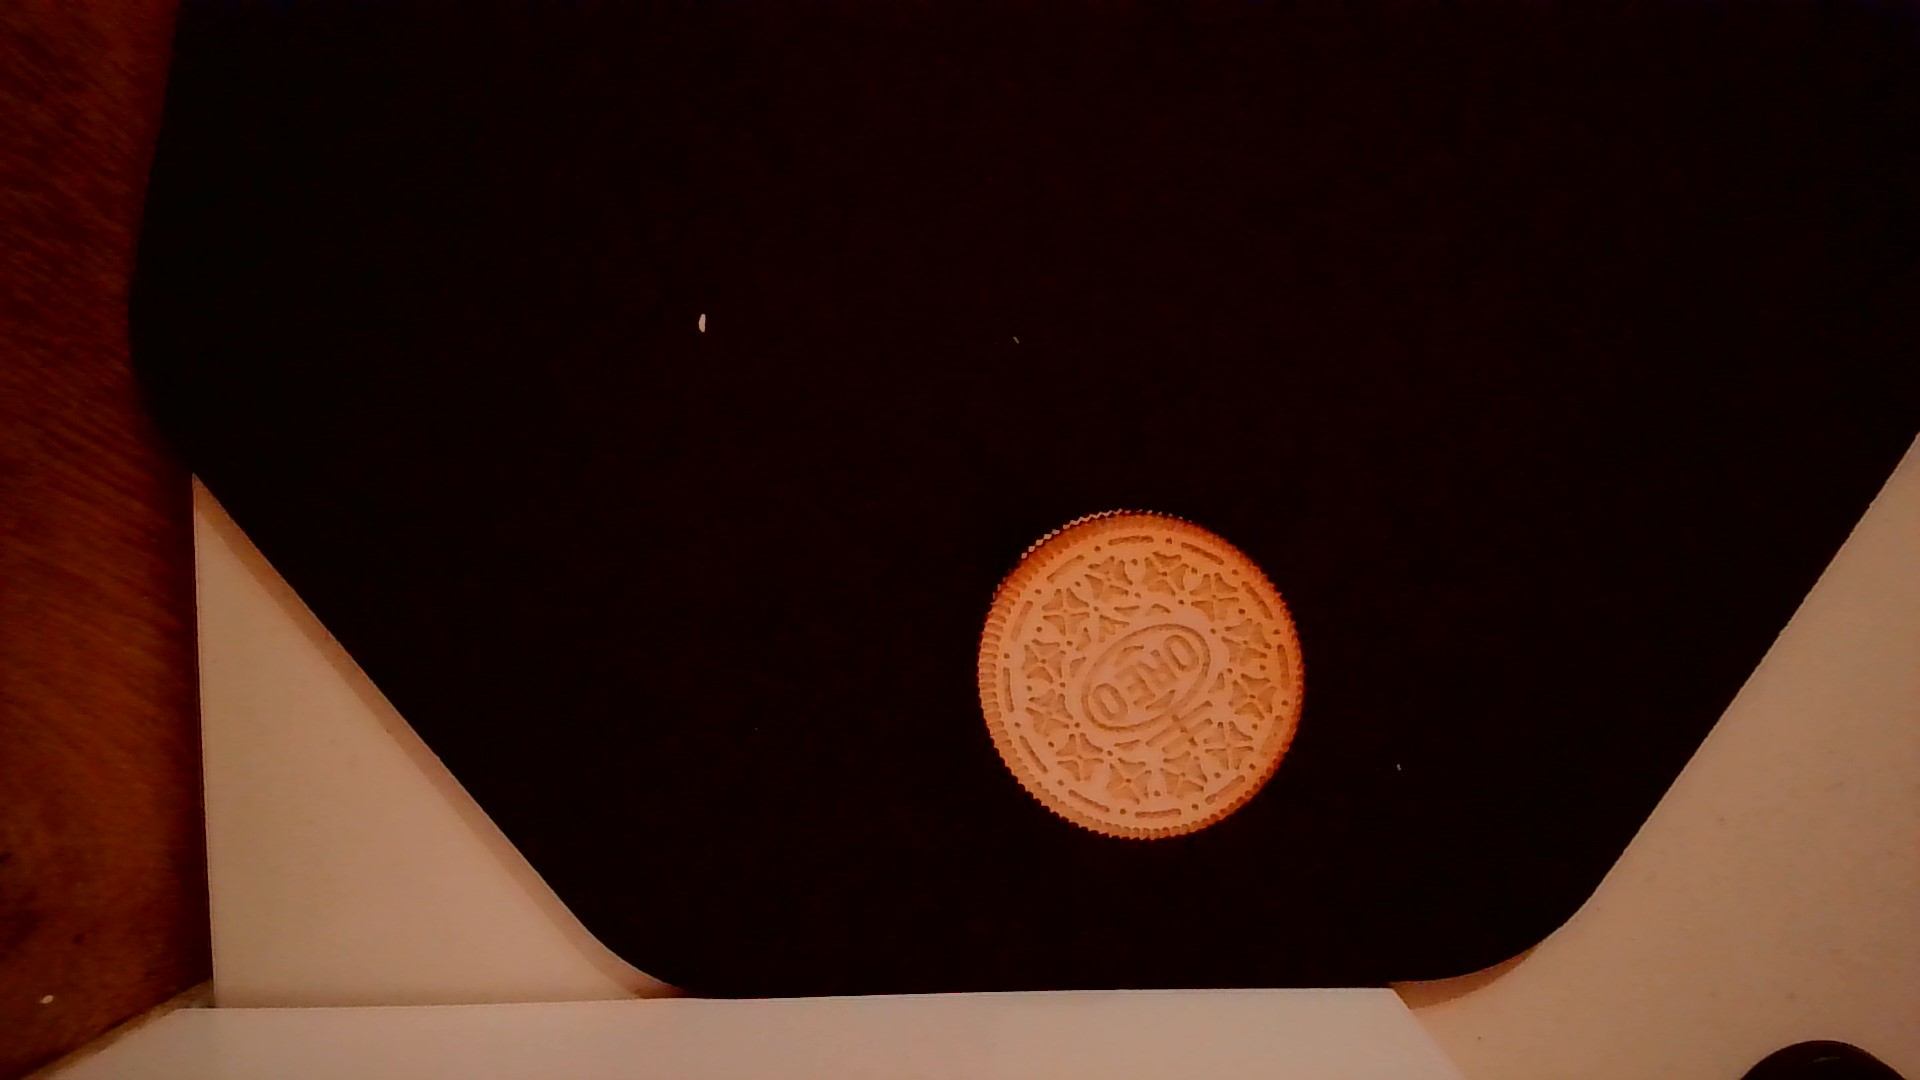Oréo: (968, 501, 1312, 849)
